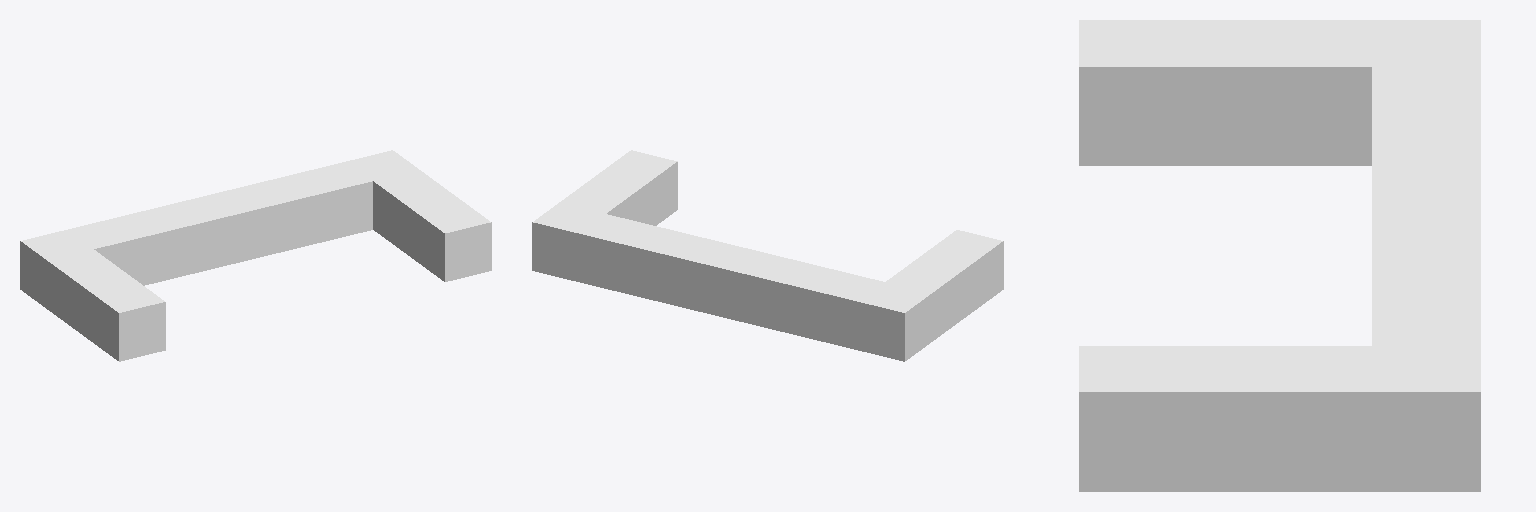
robot.urdf — handle_top_right:
<?xml version="1.0" ?>
<robot name="handle_top_right">
 <link name="baseLink">
   <contact>
     <lateral_friction value="0.5"/>
   </contact>
   <inertial>
     <origin rpy="0 0 0" xyz="0.350001 0.456499 1.0875"/>
      <mass value="1.0"/>
      <inertia ixx="0.000000" ixy="0.000000" ixz="0.000000" iyy="0.000000" iyz="0.000000" izz="0.000000"/>
   </inertial>
   <visual>
     <origin rpy="0 0 0" xyz="0 0 0"/>
     <geometry>
       <mesh filename="handle_top_right.obj" scale="1.0 1.0 1.0"/>
     </geometry>
      <material name="white">
       <color rgba="1 1 1 1"/>
     </material>
   </visual>
   <collision>
     <origin rpy="0 0 0" xyz="0 0 0"/>
     <geometry>
       <mesh filename="handle_top_right_vhacd2.obj" scale="1.0 1.0 1.0"/>
     </geometry>
   </collision>
 </link>
</robot>

--- Render facts (derived) ---
Views: 3 orthographic renders of the robot side by side, from view 1: azimuth 30°, elevation 25°; view 2: azimuth 150°, elevation 25°; view 3: azimuth 270°, elevation 25°.
Robot: handle_top_right — 1 links, 0 joints (none); root link baseLink; default pose: all joints at 0.
Links seen in each view (by area): view 1: baseLink; view 2: baseLink; view 3: baseLink.
Link boxes in pixels (<box>): baseLink: <box>20,150,491,361</box>; baseLink: <box>532,150,1003,361</box>; baseLink: <box>1079,20,1480,491</box>.
Bounding box of the posed robot: 0.12 × 0.055 × 0.015 m (x, y, z).
1 mesh visuals loaded from 1 distinct referenced files (1 OBJ).